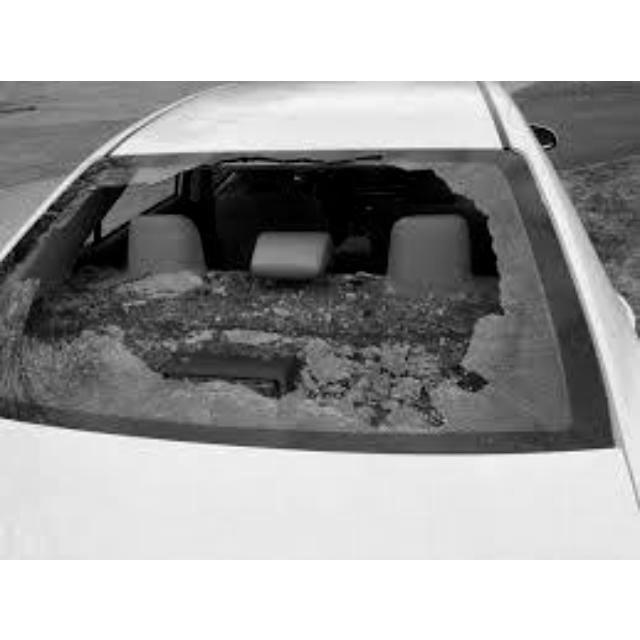Rear-windscreen-Damage: (10, 157, 620, 465)
